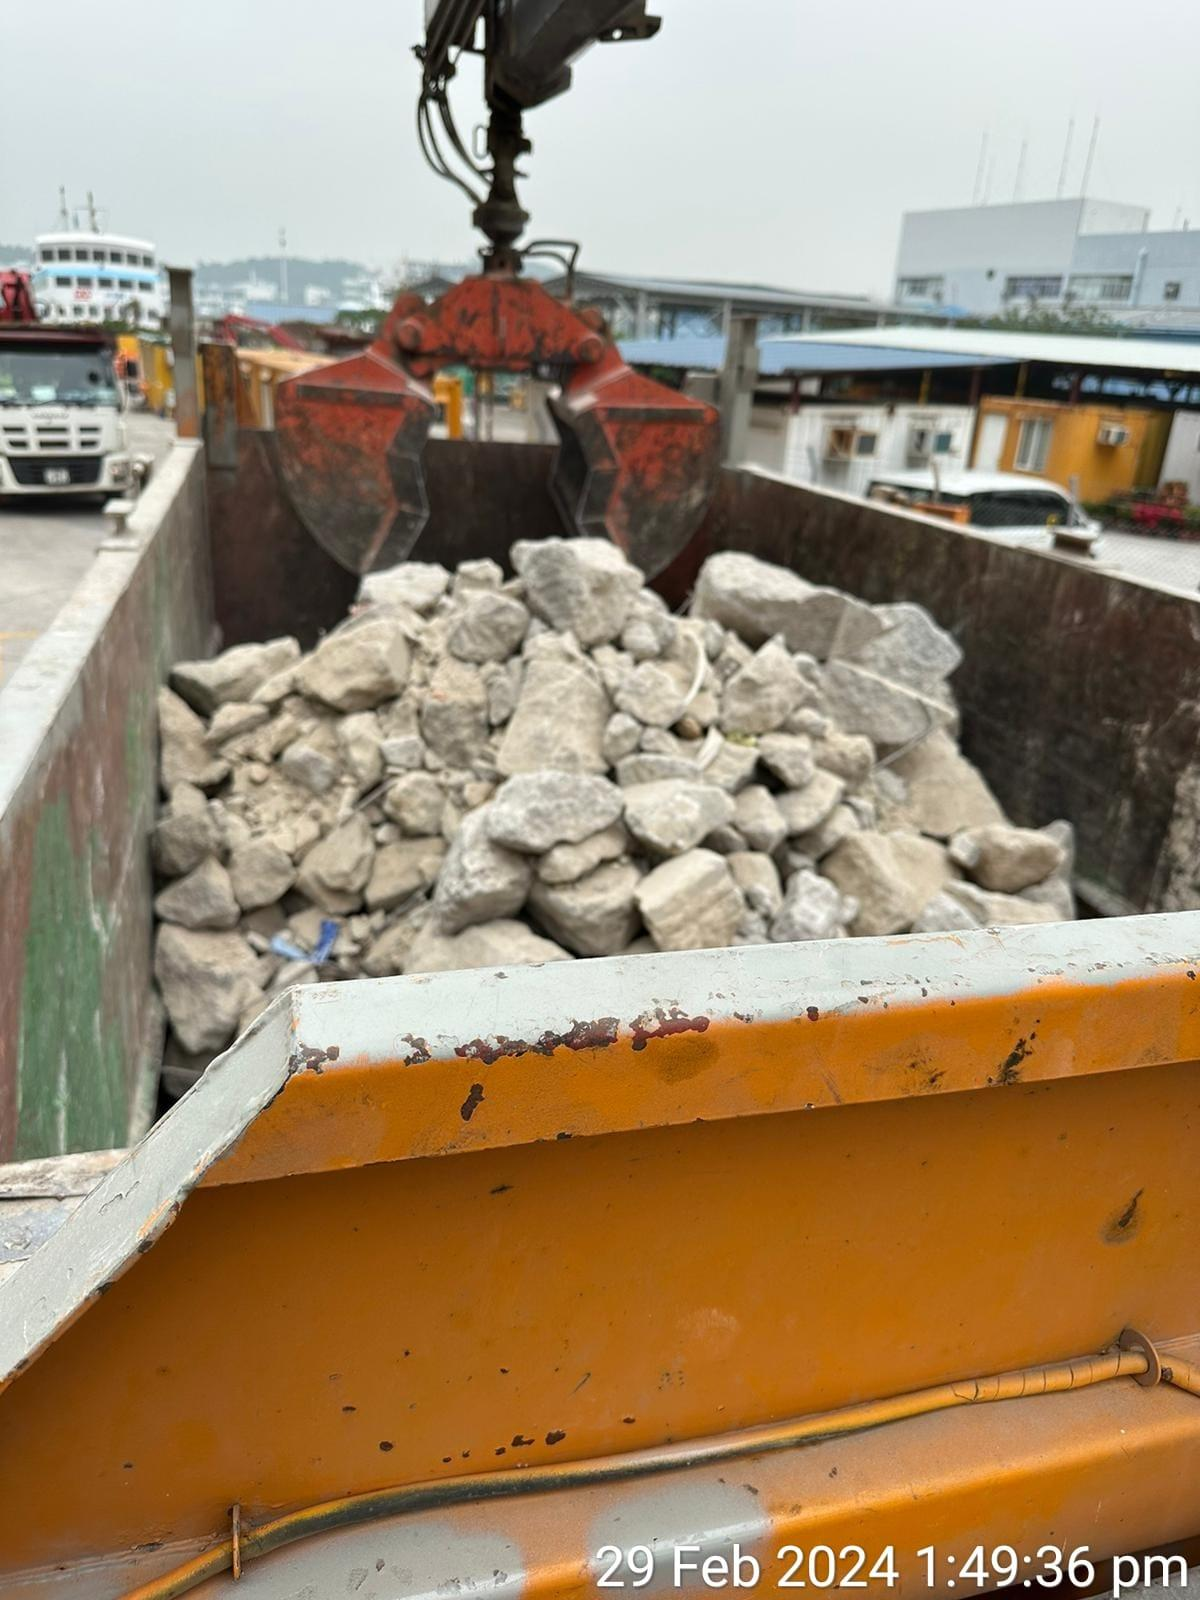stone: (149, 534, 1075, 1063)
